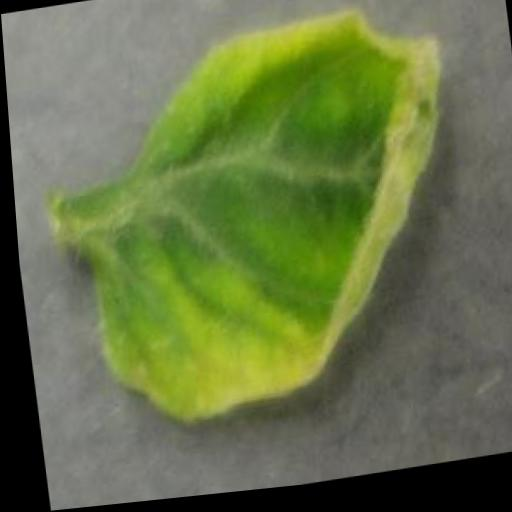Yellow Leaf Curl Virus: (54, 2, 479, 440)
